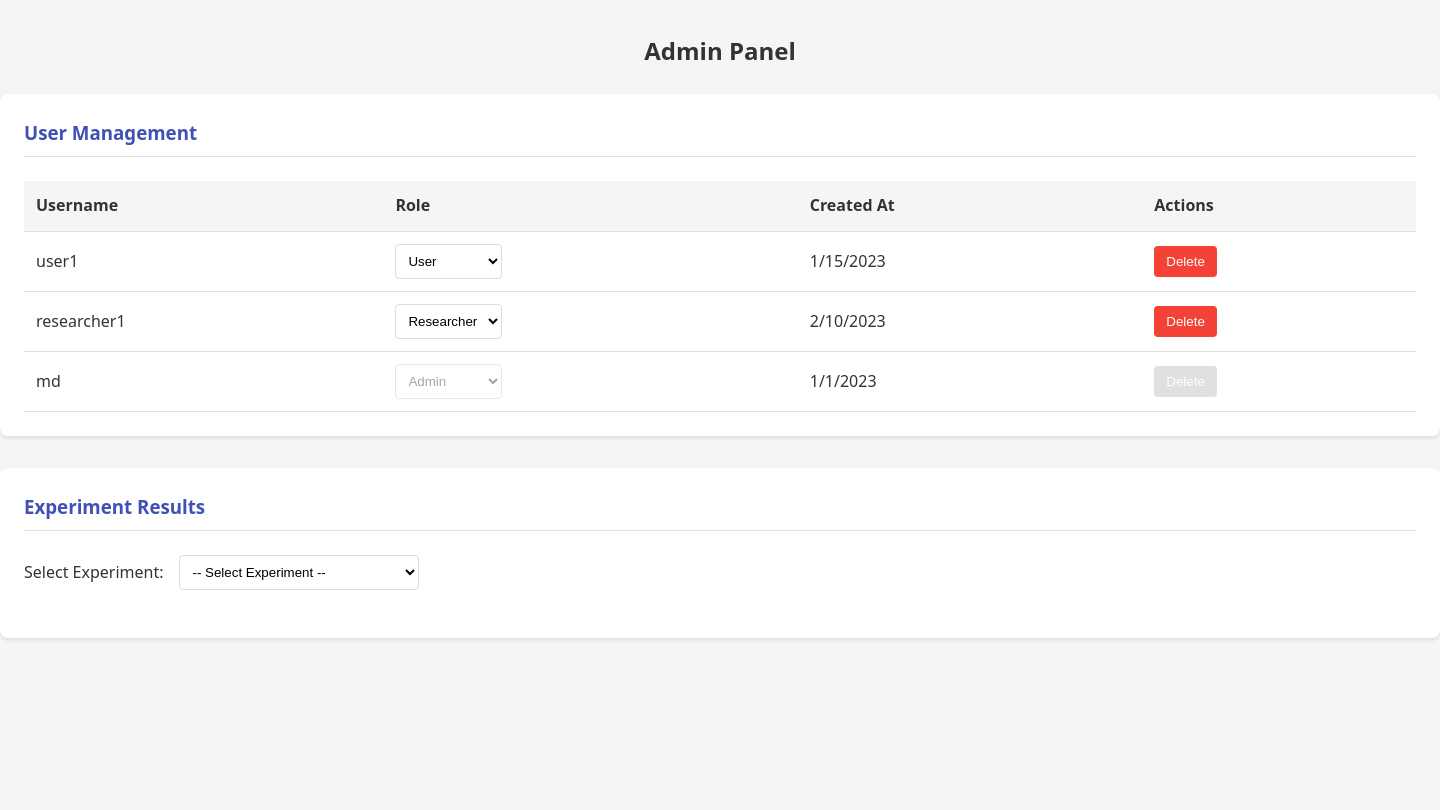
Scenario: AdminPanel Component › Role Change Functionality › displays error message when role change fails
This screenshot has width=1440, height=810.
Select "Researcher" in the dropdown in the row of "user1" at (449, 261), box 395,244 -> 502,279
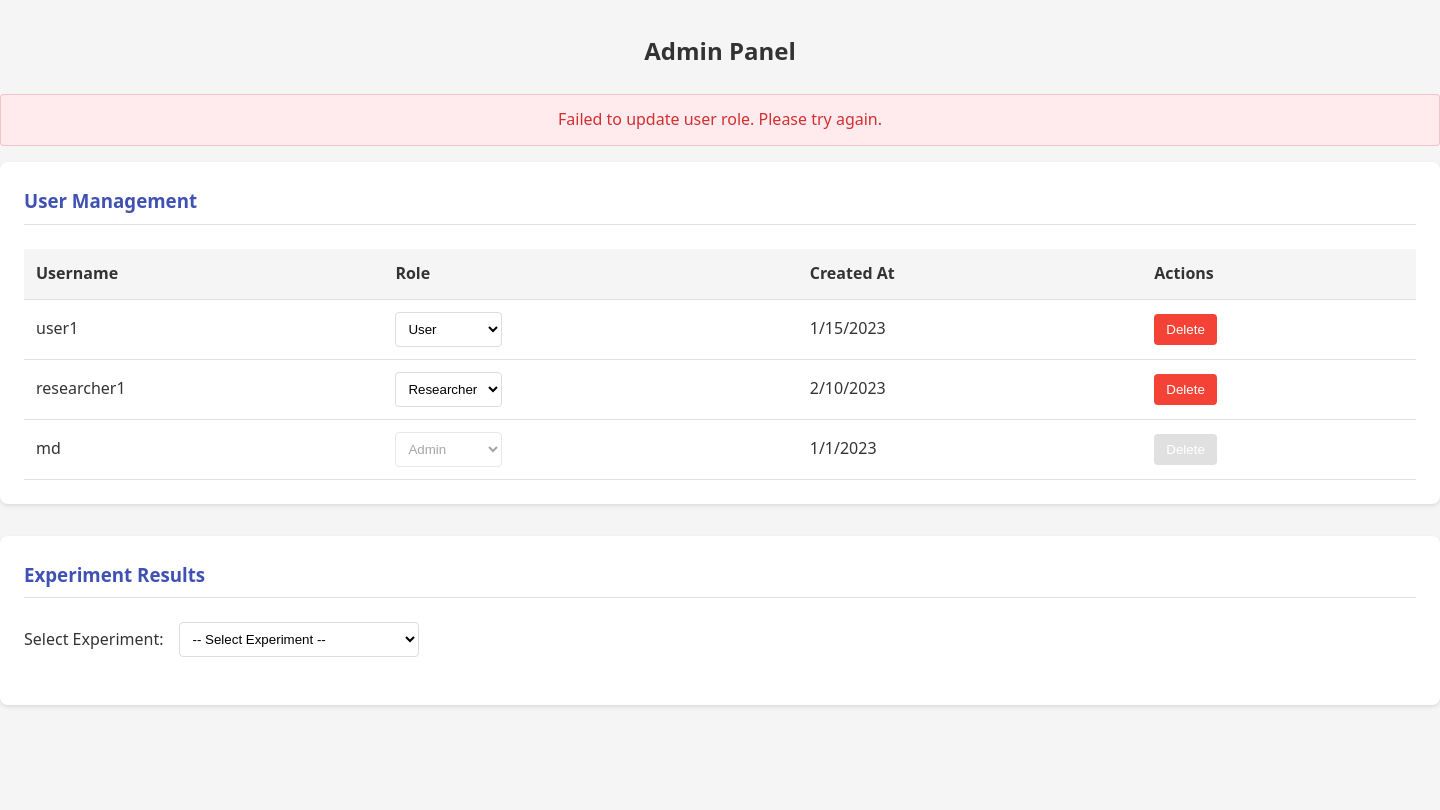
Expected: the text "Failed to update user role. Please try again." is shown, 0,94 -> 1439,146
